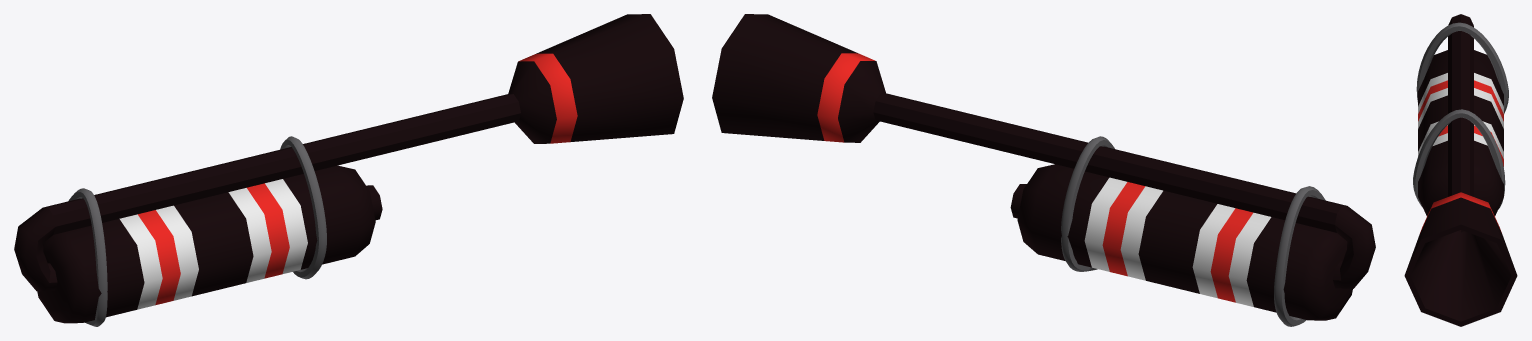
The model's file is pyro (1).fbx.
3 views of the same model, side by side, from view 1: azimuth 30°, elevation 25°; view 2: azimuth 150°, elevation 25°; view 3: azimuth 270°, elevation 25° (orthographic). The views are drawn at different scales.
Visible parts, largest first — view 1: Cylinder.001; view 2: Cylinder.001; view 3: Cylinder.001.
Boxes of the visible parts, left/top/right/bottom form: Cylinder.001: left=14, top=14, right=683, bottom=326; Cylinder.001: left=712, top=14, right=1375, bottom=326; Cylinder.001: left=1404, top=14, right=1517, bottom=326.
Size of the model in its own units: 80.59 by 20.9 by 14.61.
